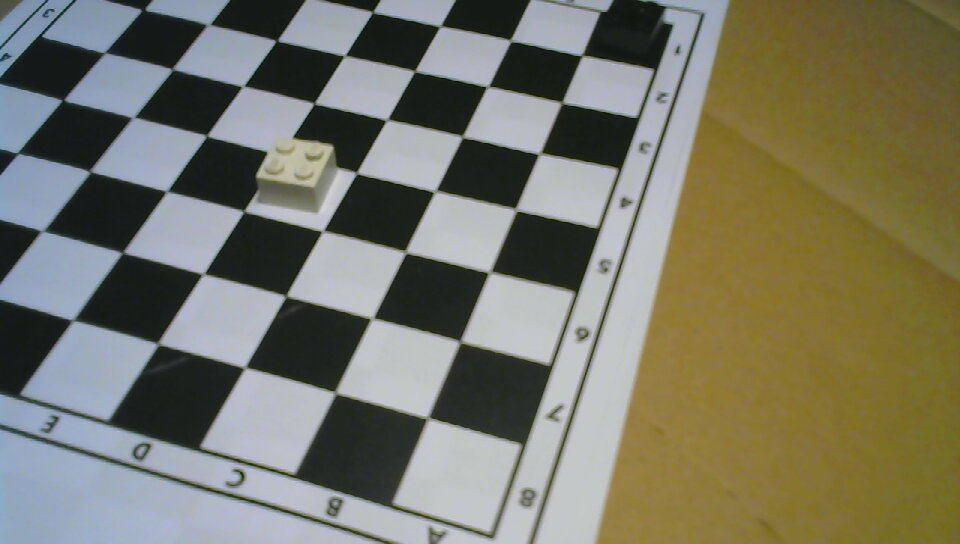bp: (599, 1, 665, 57)
wp: (255, 135, 337, 214)
